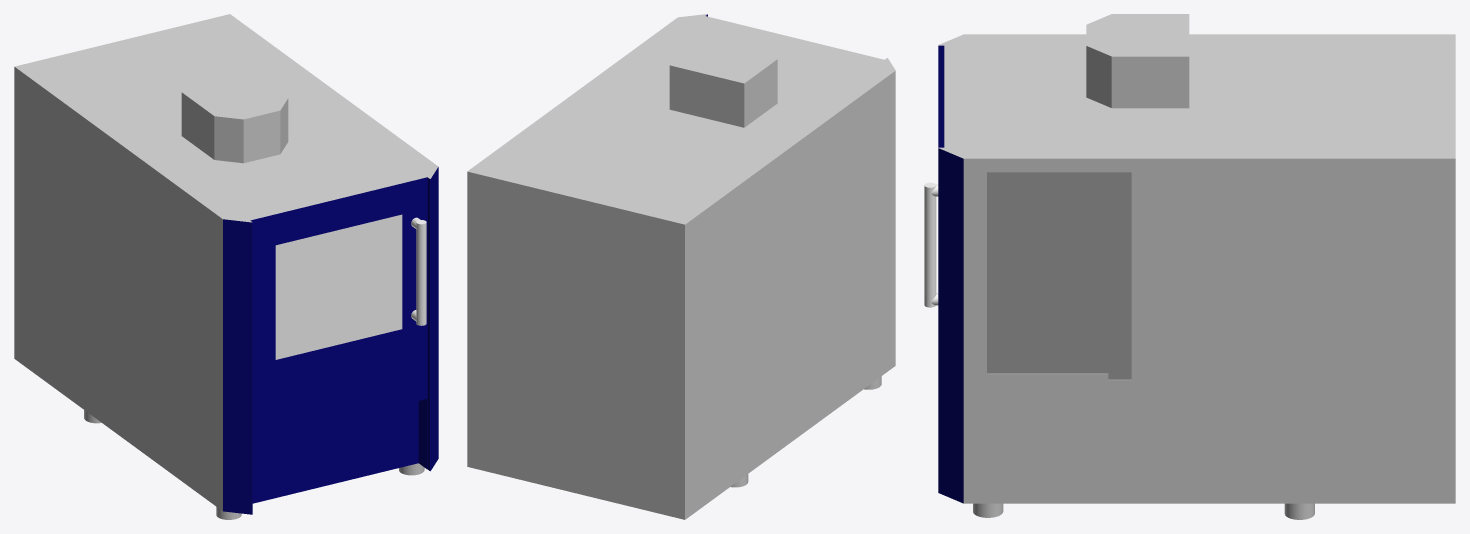
Rendered from CNC_Anim.fbx.
3 renders of one model, left to right at view 1: azimuth 30°, elevation 25°; view 2: azimuth 150°, elevation 25°; view 3: azimuth 270°, elevation 25°, orthographic. The views are drawn at different scales.
Parts seen in each view (by area): view 1: 3DGeom~160, 3DGeom~159, Body_5, Body_2; view 2: 3DGeom~160; view 3: 3DGeom~160, Door, 3DGeom~159, Body_2.
Part boxes in pixels (left/top/right/bottom): 3DGeom~160: left=14, top=14, right=438, bottom=519; 3DGeom~159: left=223, top=167, right=438, bottom=514; Body_5: left=275, top=214, right=402, bottom=359; Body_2: left=416, top=220, right=426, bottom=325; 3DGeom~160: left=467, top=14, right=895, bottom=519; 3DGeom~160: left=938, top=14, right=1455, bottom=519; Door: left=987, top=172, right=1131, bottom=379; 3DGeom~159: left=938, top=45, right=963, bottom=503; Body_2: left=924, top=182, right=936, bottom=307.
Bounding box in the file's own units: 145 × 226 × 262.
